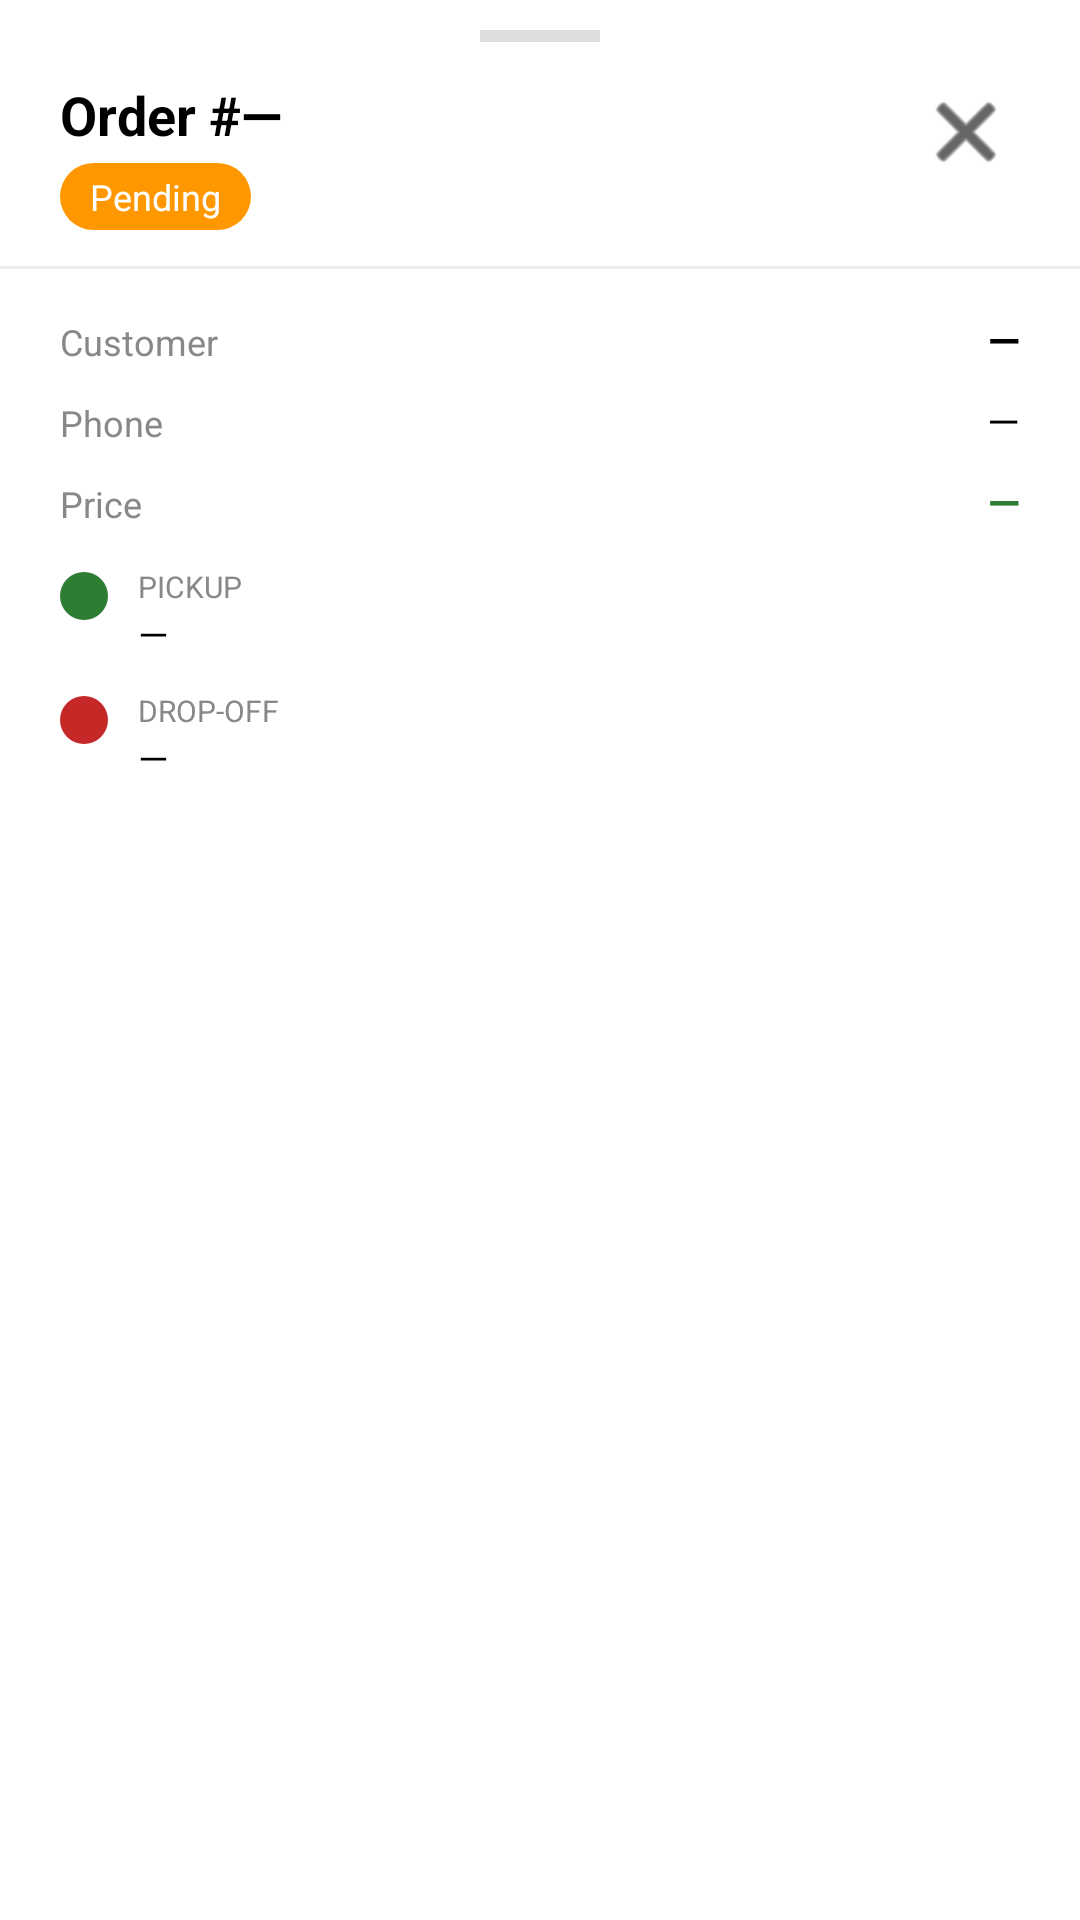

Point at icon controls on the screen. Image size 1080 × 1920, points as (x,y).
Close: (966,132)
